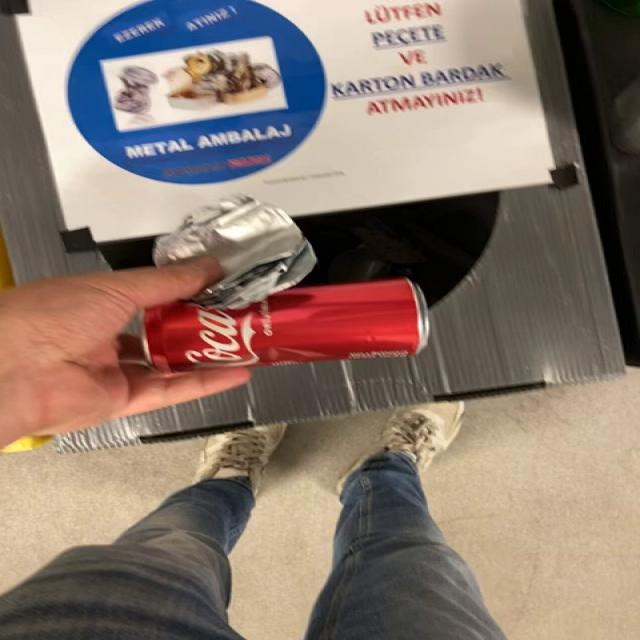bin: (1, 0, 625, 452)
metal: (120, 278, 429, 372)
